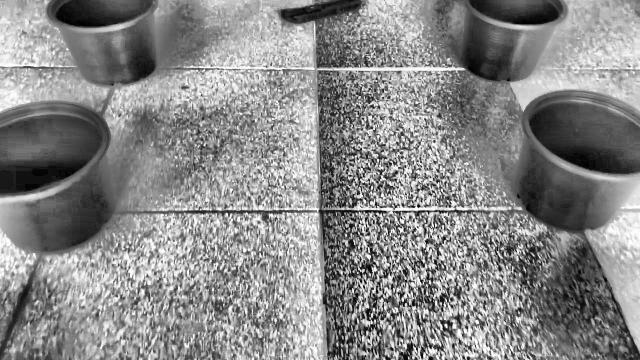pot: (514, 90, 640, 231), (0, 102, 116, 254), (45, 0, 159, 87), (460, 0, 568, 82)
